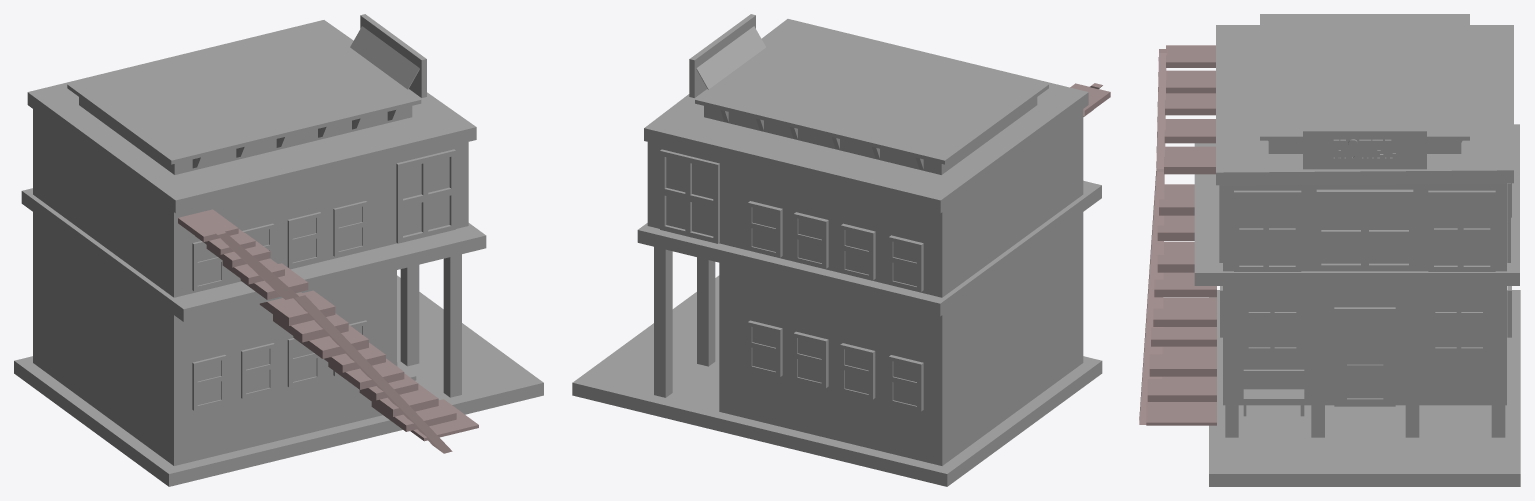
File: Danielle_Inn_Textured_11-9-23.fbx
3 renders of one model, left to right at view 1: azimuth 30°, elevation 25°; view 2: azimuth 150°, elevation 25°; view 3: azimuth 270°, elevation 25°, orthographic.
Visible parts, largest first — view 1: polySurface3, polySurface9, polySurface6, polySurface5, polySurface2, polySurface4, pCube63, pCube53, polySurface8, rail_low, pCube23, pCube25 (+14 smaller); view 2: polySurface3, polySurface9, polySurface6, polySurface5, polySurface2, polySurface4, pCube79, polySurface8, pCube27, pCube26, polySurface10, pCube66 (+8 smaller); view 3: polySurface2, polySurface9, polySurface5, pCube63, polySurface3, polySurface4, pCube33, polySurface6, pCube30, pCube32, pCube31, pCube28 (+16 smaller).
Part boxes in pixels (x1,y1,x2,y2): polySurface3: [33, 212, 396, 465]; polySurface9: [67, 23, 421, 164]; polySurface6: [33, 109, 468, 297]; polySurface5: [27, 20, 476, 213]; polySurface2: [14, 275, 543, 486]; polySurface4: [21, 188, 486, 321]; pCube63: [259, 290, 478, 441]; pCube53: [396, 149, 455, 243]; polySurface8: [79, 97, 412, 174]; rail_low: [214, 230, 452, 453]; pCube23: [443, 254, 461, 397]; pCube25: [400, 265, 419, 366]; polySurface3: [719, 212, 1083, 465]; polySurface9: [695, 23, 1048, 164]; polySurface6: [647, 109, 1083, 297]; polySurface5: [644, 19, 1088, 213]; polySurface2: [572, 275, 1102, 486]; polySurface4: [637, 180, 1101, 316]; pCube79: [660, 149, 719, 243]; polySurface8: [704, 97, 1037, 174]; pCube27: [654, 247, 672, 397]; pCube26: [697, 257, 715, 366]; polySurface10: [696, 26, 765, 89]; pCube66: [888, 235, 923, 291]; polySurface2: [1209, 290, 1520, 486]; polySurface9: [1260, 14, 1469, 140]; polySurface5: [1216, 25, 1513, 185]; pCube63: [1146, 184, 1216, 425]; polySurface3: [1223, 286, 1506, 405]; polySurface4: [1194, 124, 1519, 285]; pCube33: [1316, 189, 1413, 270]; polySurface6: [1223, 183, 1506, 271]; pCube30: [1334, 307, 1395, 406]; pCube32: [1428, 190, 1495, 271]; pCube31: [1234, 190, 1301, 271]; pCube28: [1242, 286, 1300, 353].
Size of what is drawn, in the model's own units: 783 by 638 by 687.
